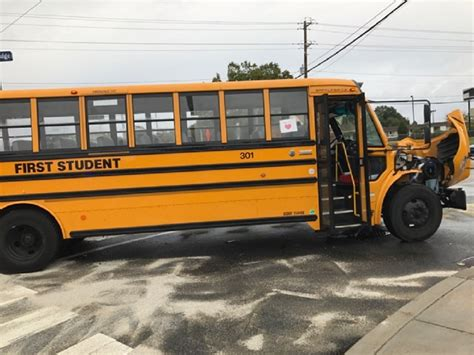bus: (1, 79, 439, 254)
